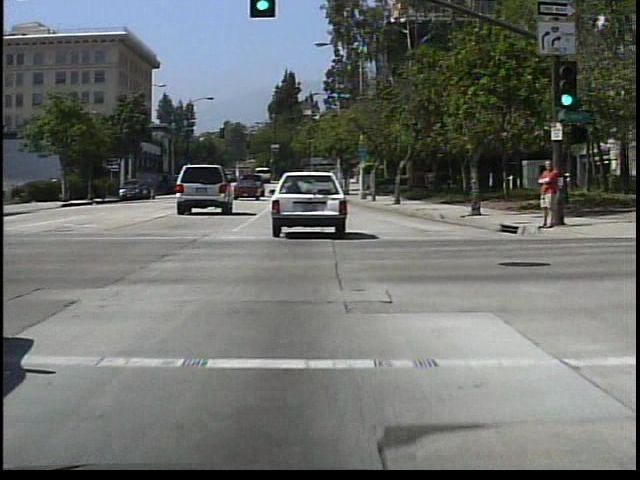person: (534, 158, 561, 233)
